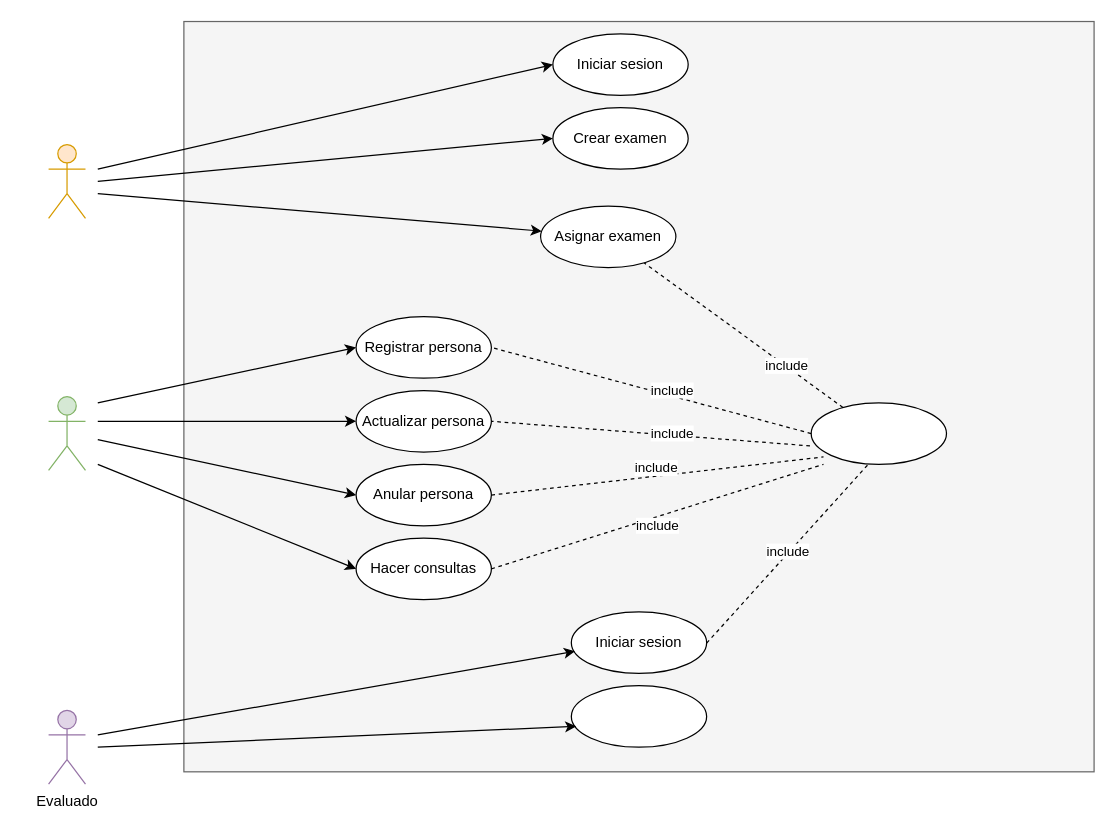
The diagram is 1116 pixels wide and 831 high, and some of its shapes have lost their labels. Each missing label, with the centre of its shape:
Administrador: the point at 66,180
Auxiliar: the point at 66,432
Consultar persona: the point at 878,433
Hacer examen: the point at 638,715
